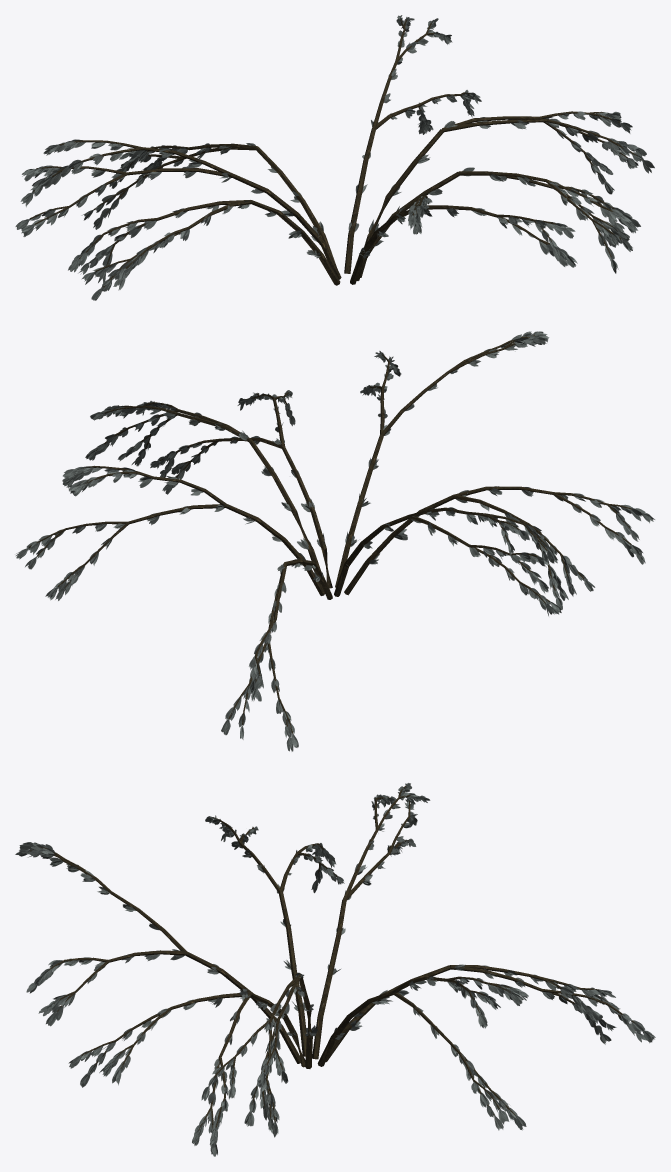
The model's file is willow_shrub_v02.glb.
The picture shows the model from 3 angles, top to bottom: view 1: azimuth 30°, elevation 25°; view 2: azimuth 150°, elevation 25°; view 3: azimuth 270°, elevation 25°; orthographic projection. The views are drawn at different scales.
Visible parts, largest first — view 1: willow_shrub_v02; view 2: willow_shrub_v02; view 3: willow_shrub_v02.
Part boxes in pixels (left/top/right/bottom): willow_shrub_v02: left=15, top=15, right=654, bottom=300; willow_shrub_v02: left=16, top=331, right=654, bottom=751; willow_shrub_v02: left=15, top=783, right=655, bottom=1156.
Size of the model in its own units: 10.75 by 3.95 by 10.49.
2 materials, 2 textured.
